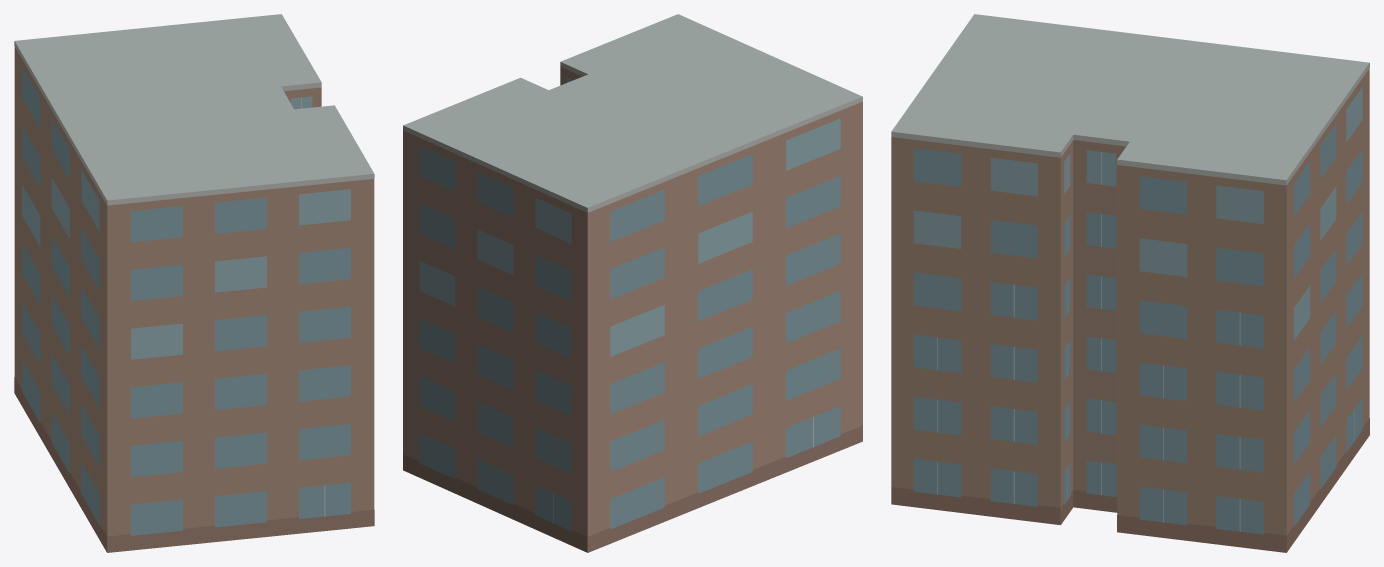
File: survey-upis-32554758.glb
3 renders of one model, left to right at view 1: azimuth 30°, elevation 25°; view 2: azimuth 150°, elevation 25°; view 3: azimuth 270°, elevation 25°, orthographic. The views are drawn at different scales.
Visible parts, largest first — view 1: survey-upis-32554758.tmp; view 2: survey-upis-32554758.tmp; view 3: survey-upis-32554758.tmp.
Part boxes in pixels (<box>): survey-upis-32554758.tmp: <box>14,14,374,552</box>; survey-upis-32554758.tmp: <box>403,14,862,552</box>; survey-upis-32554758.tmp: <box>891,14,1369,552</box>.
Bounding box in the file's own units: 16.47 × 17.2 × 20.03.
